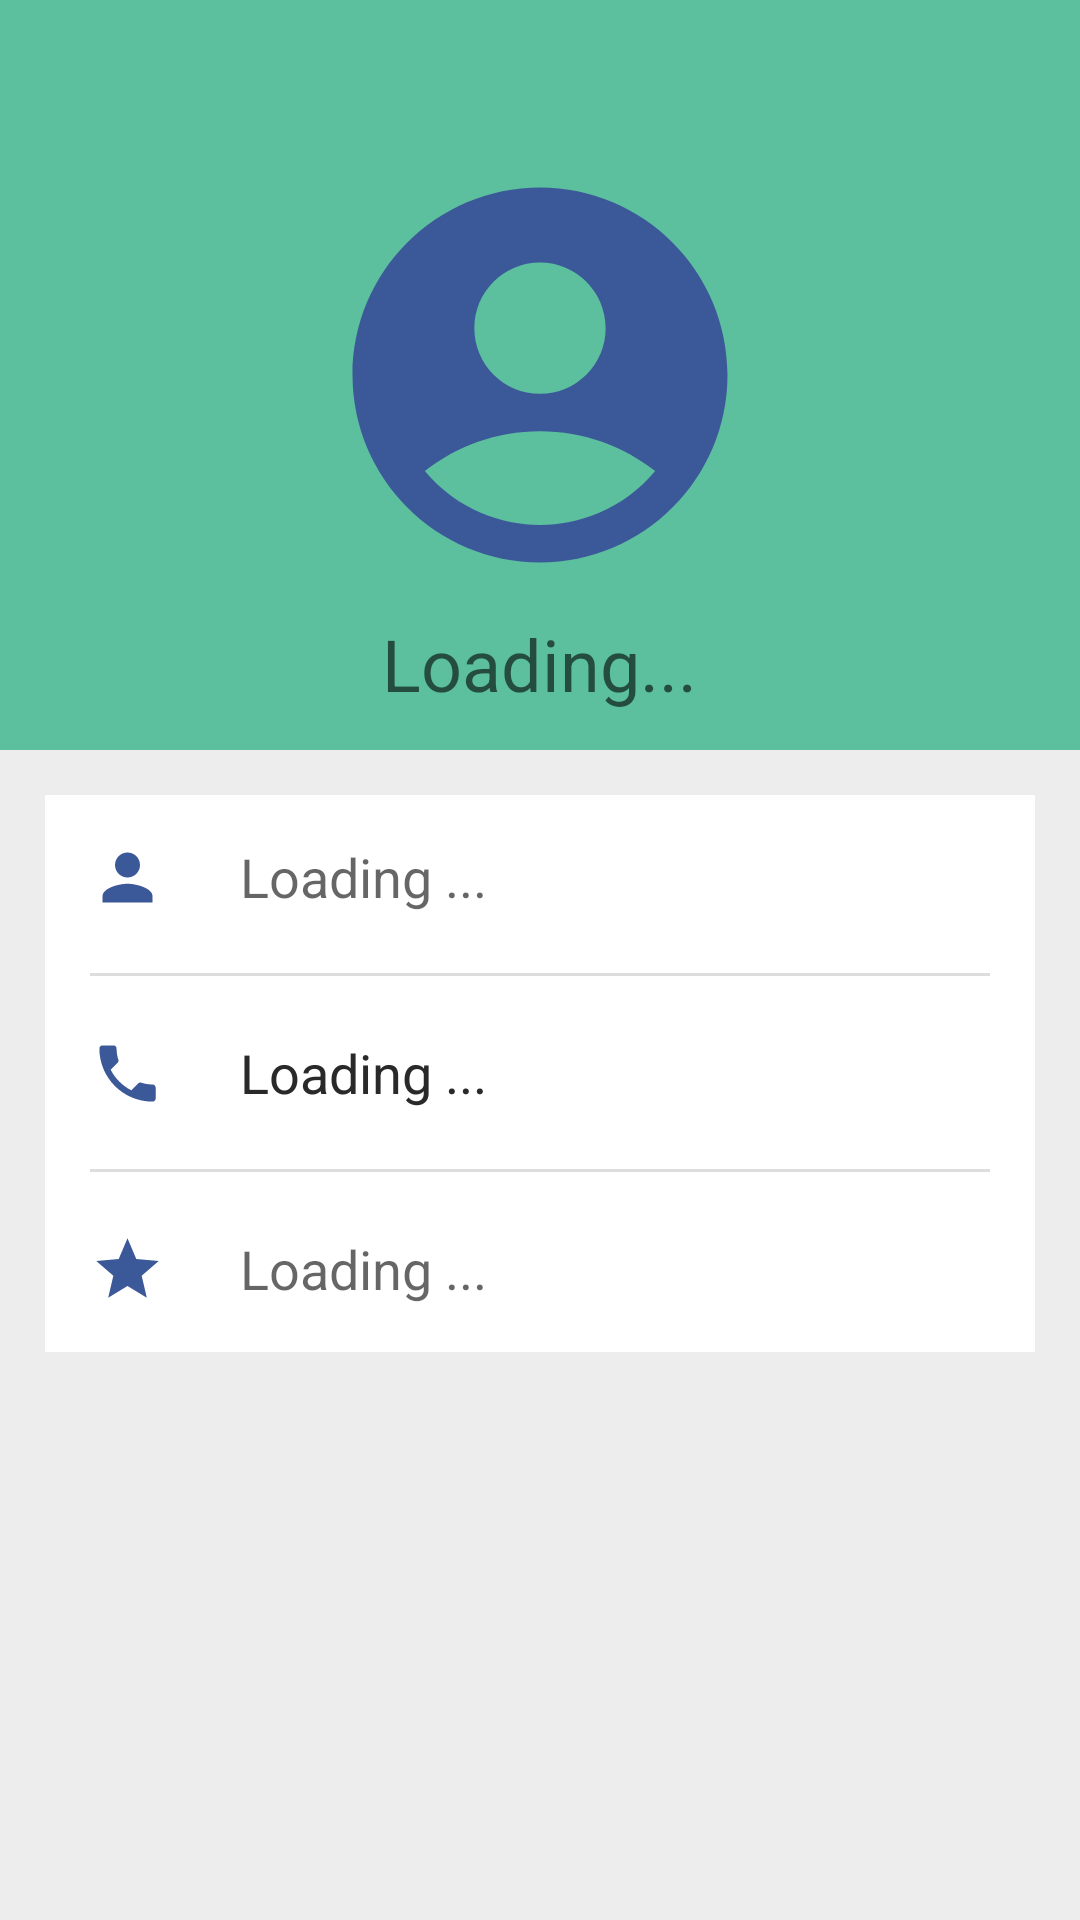

Icons on this 1080*1920 Android screen, each with its box as (x1, y1, x2, y2):
local phone: (99, 1045, 156, 1102)
person: (102, 852, 153, 903)
rank: (96, 1238, 159, 1298)
